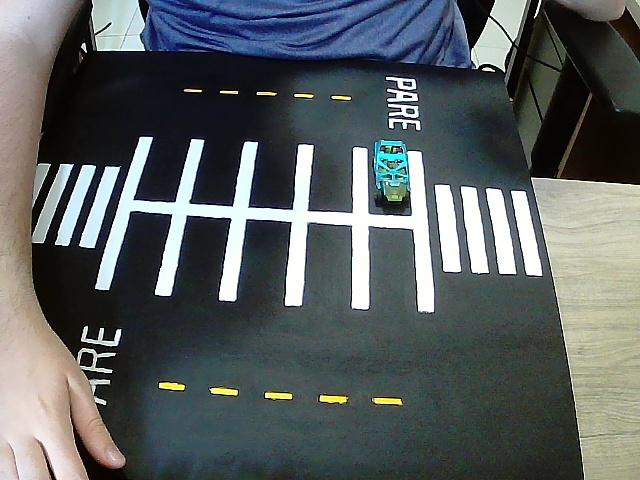Carro: (375, 141, 410, 203)
